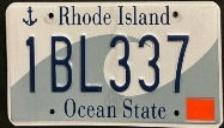1: (24, 34, 39, 95)
3: (136, 32, 163, 94), (107, 33, 134, 94)
7: (166, 33, 192, 96)
B: (48, 34, 74, 94)
L: (78, 34, 105, 94)
